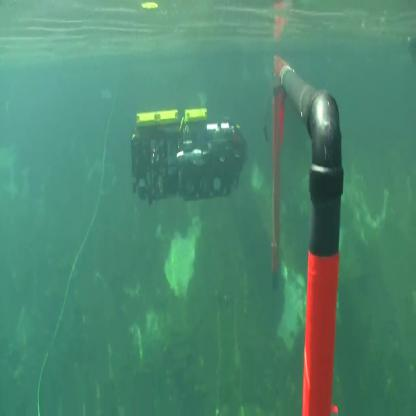gate: (268, 48, 345, 416)
